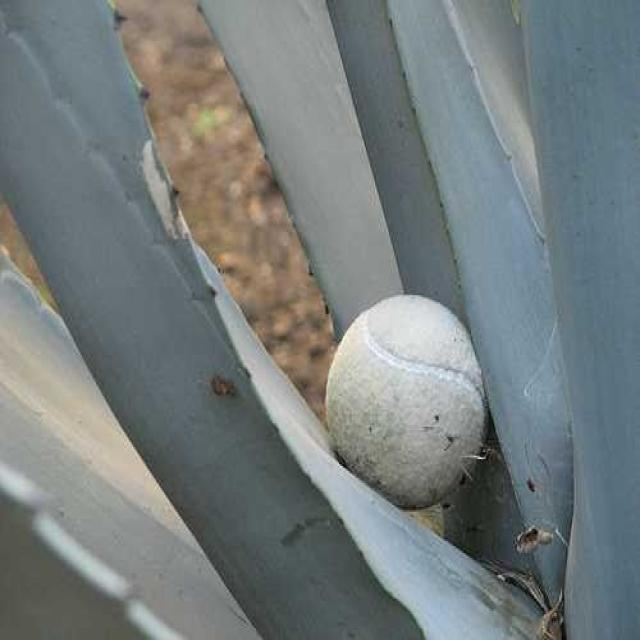Tennis_Ball: (329, 292, 486, 510)
